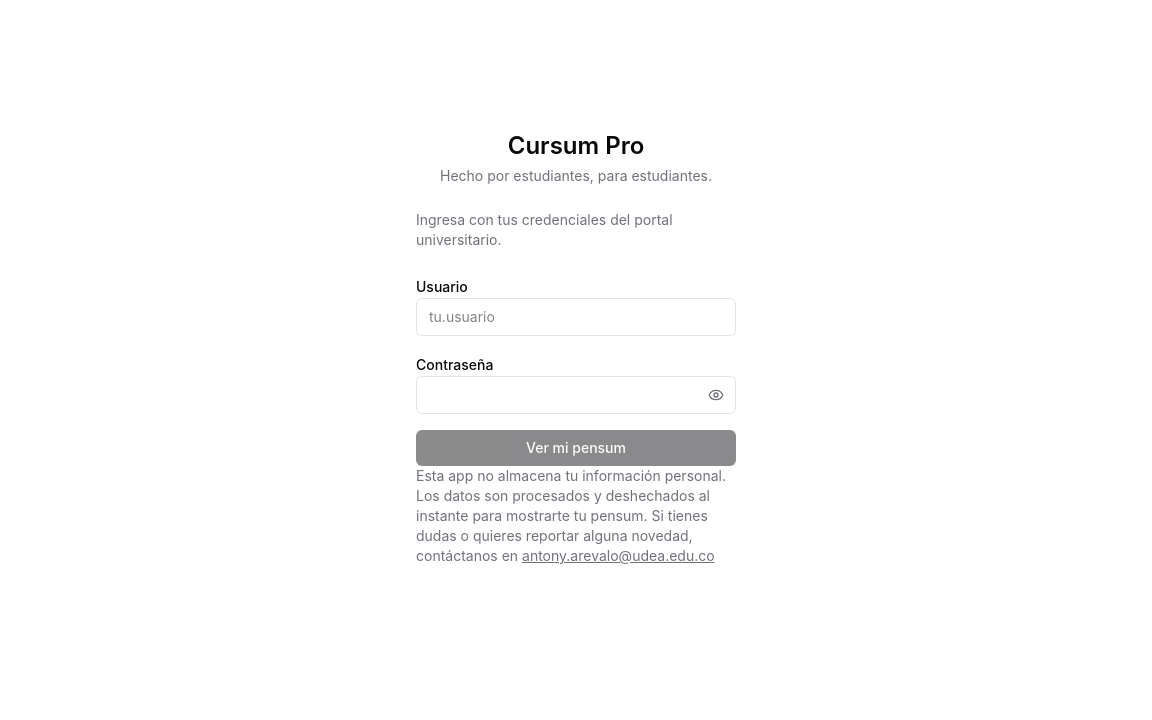
Test: App › despliega las materias de un banco con su estado
Type "ana.prueba" into the field with placeholder "tu.usuario" at point(576, 317), box 416,298 -> 736,336
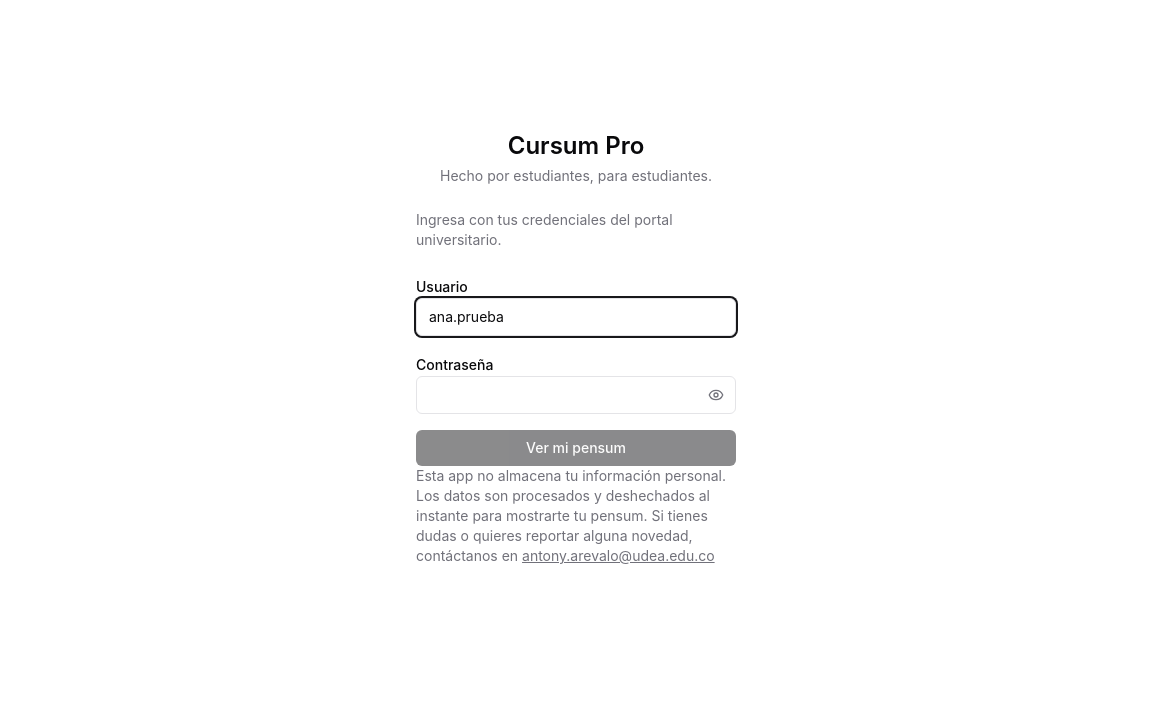
Type "Secreta123" into the password field at point(576, 395), box 416,376 -> 736,414
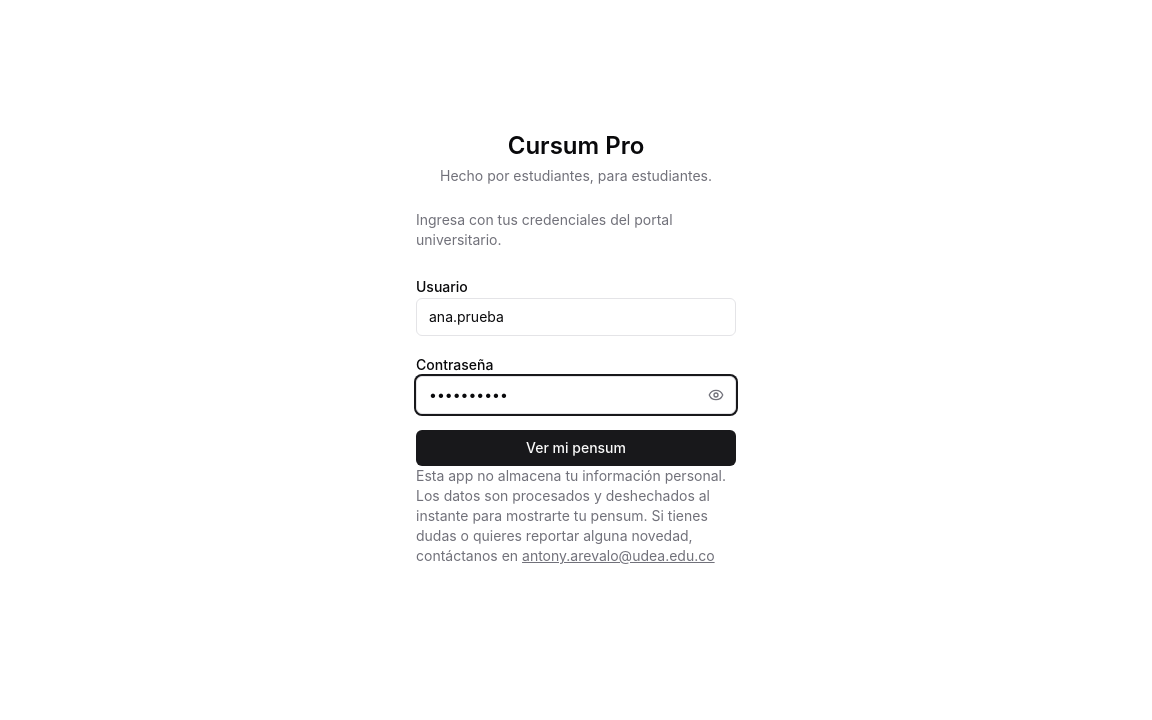
Click the button "Ver mi pensum" at point(576, 448), box 416,430 -> 736,466
(page scrolled)
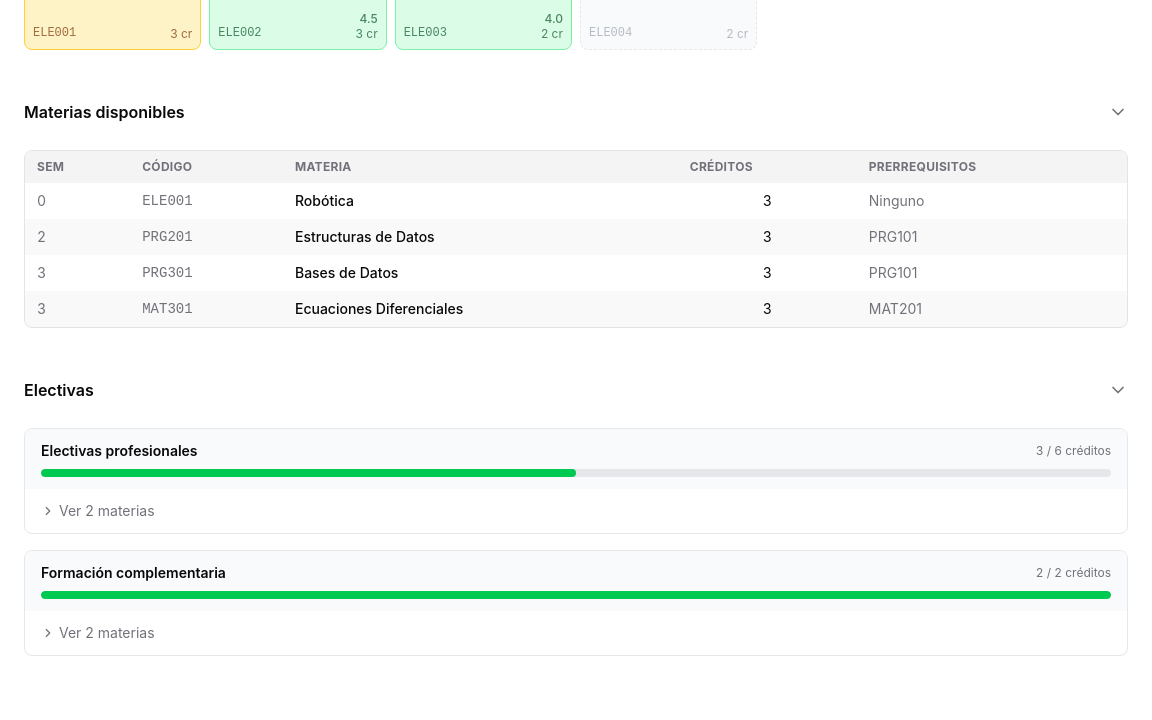
Click the button "Ver 2 materias" below "Formación complementaria" at point(107, 632), box 25,611 -> 1127,655
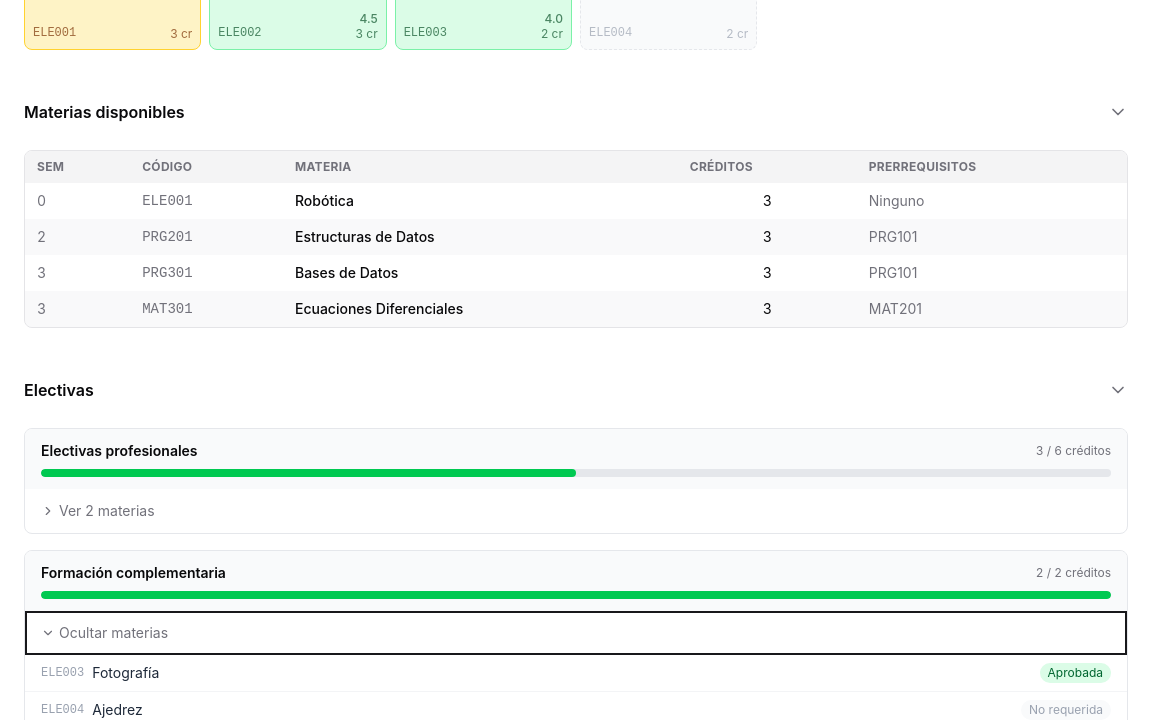
expect the list items read "ELE003FotografíaAprobada", "ELE004AjedrezNo requerida", in this order: met, box 25,655 -> 1127,692; 41,700 -> 1111,719
expect the button "Ocultar materias" is shown: met, box 25,611 -> 1127,655
